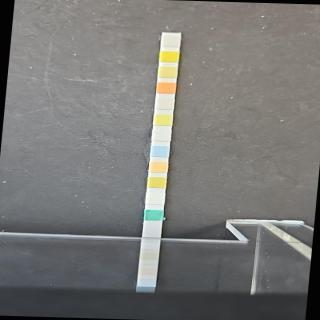mark: (149, 160, 167, 172), (159, 66, 177, 78), (148, 176, 165, 188), (153, 128, 170, 140), (158, 82, 175, 94), (162, 36, 179, 48), (144, 210, 162, 221), (160, 51, 178, 62), (152, 145, 168, 157), (146, 194, 163, 204), (156, 99, 173, 109), (155, 115, 171, 125)
